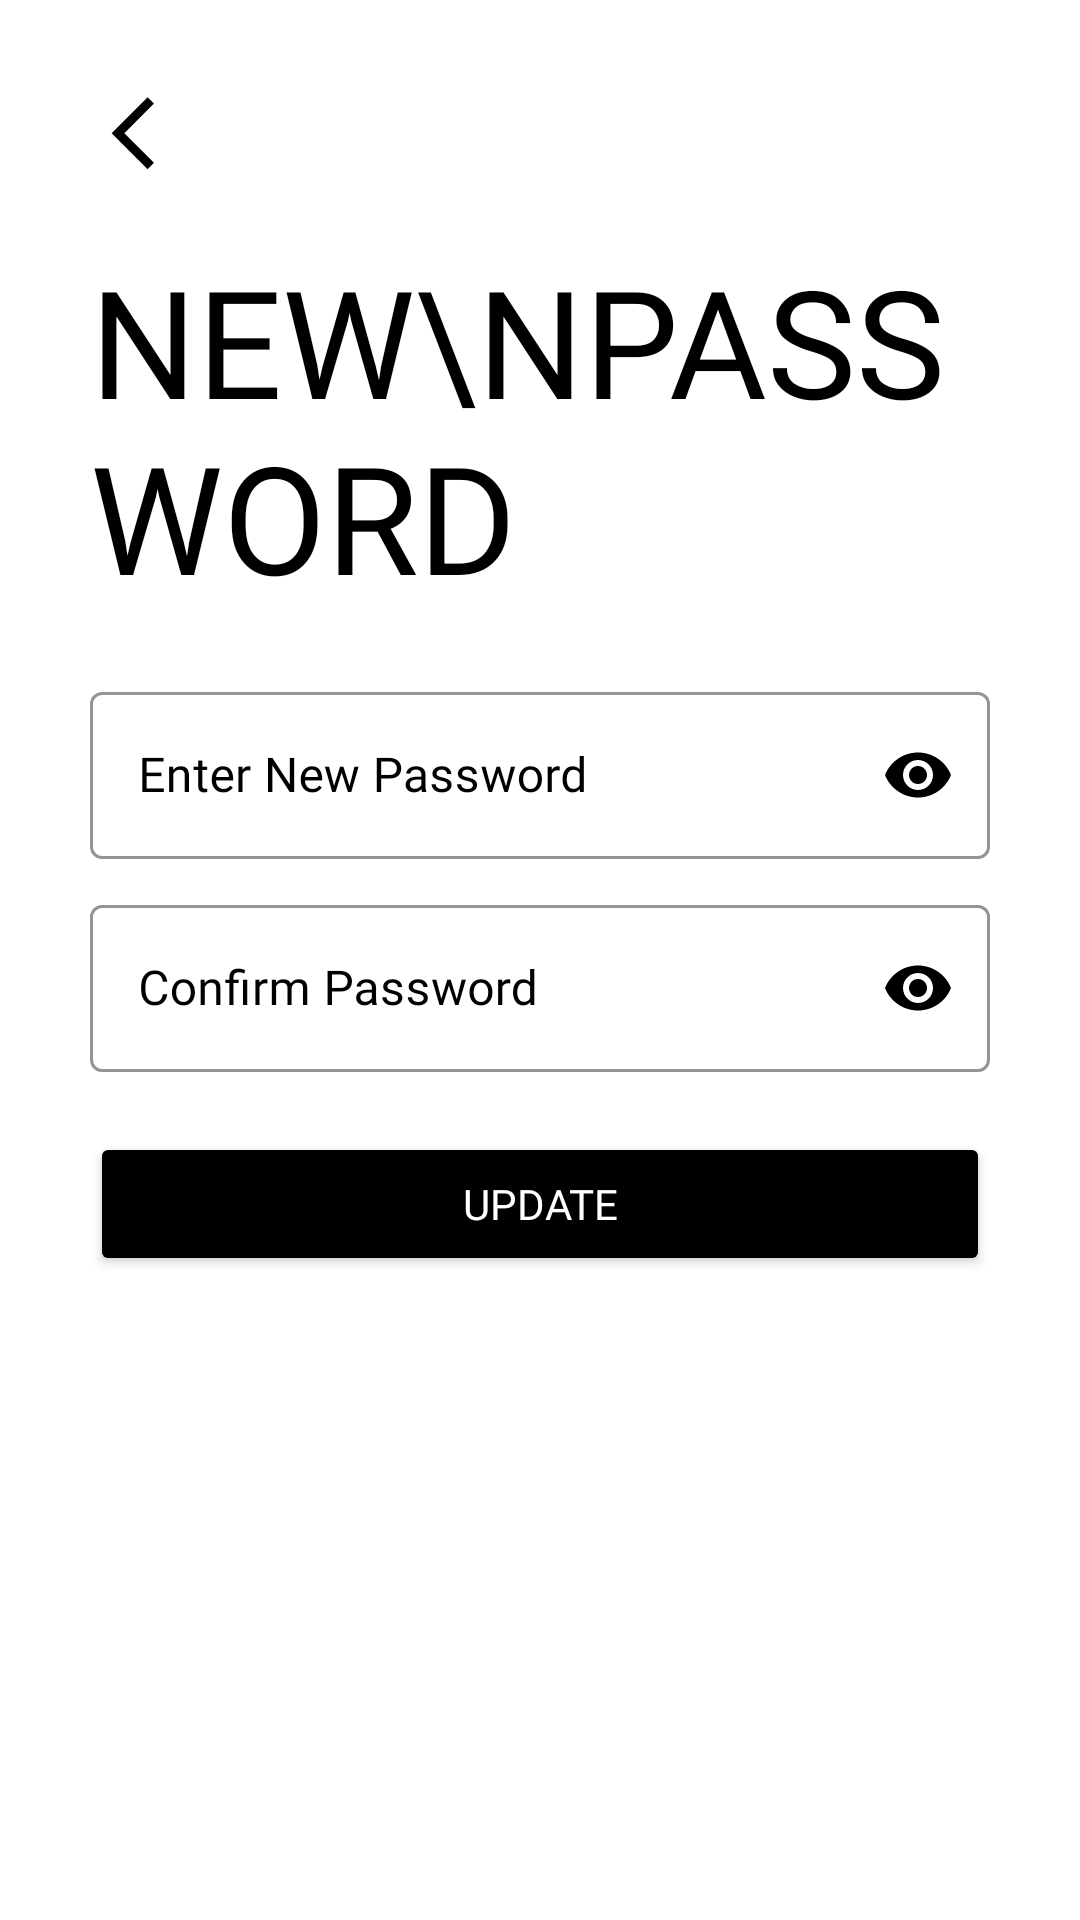

Locate icon controls on the screen. Image size 1080 × 1920, boxes as (x1, y1, x2, y2).
arrow back: (111, 97, 154, 169)
